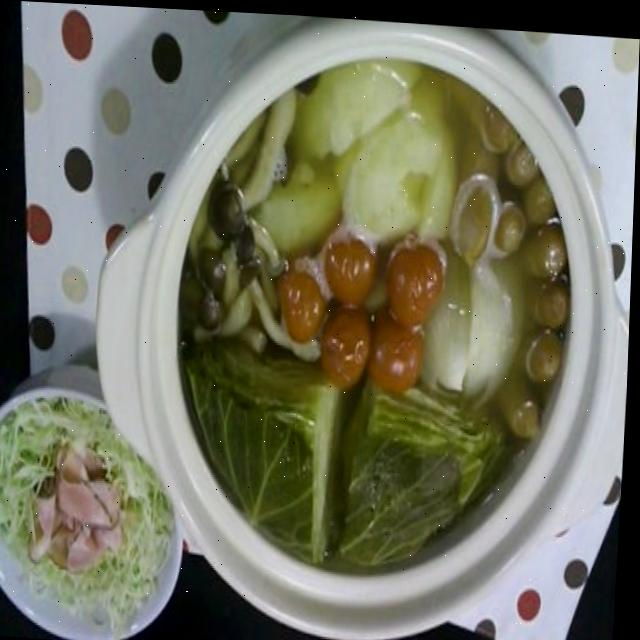汤锅炖物: (86, 7, 636, 640)
